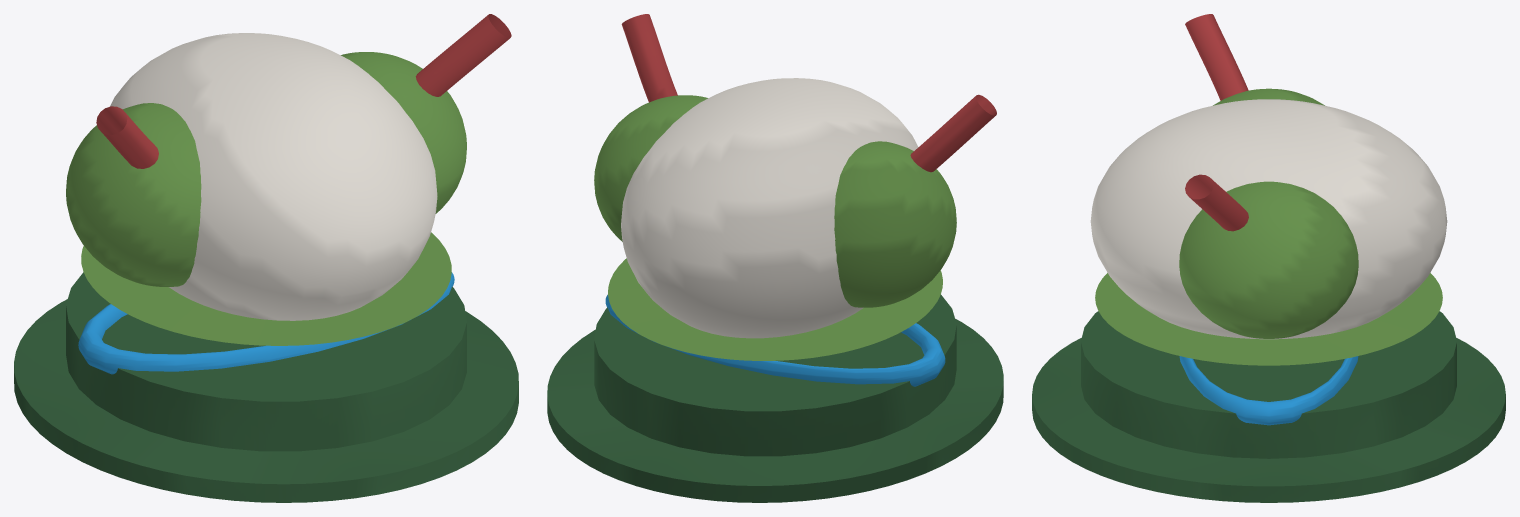
Rendered from 0183_人体图鉴_血液.glb.
3 renders of one model, left to right at view 1: azimuth 30°, elevation 25°; view 2: azimuth 150°, elevation 25°; view 3: azimuth 270°, elevation 25°, orthographic. The views are drawn at different scales.
Parts seen in each view (by area): view 1: card_0183; view 2: card_0183; view 3: card_0183.
Boxes of the visible parts, left/top/right/bottom form: card_0183: left=14, top=14, right=518, bottom=502; card_0183: left=547, top=14, right=1003, bottom=502; card_0183: left=1032, top=14, right=1505, bottom=502.
Size of the model in its own units: 1.26 by 1 by 1.36.
